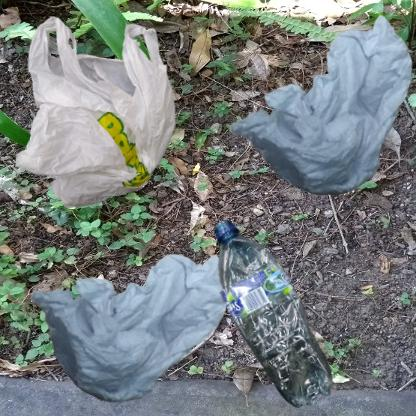bolsa: (10, 10, 192, 226)
botella: (213, 213, 338, 416)
papel: (10, 213, 249, 416), (213, 10, 416, 220)
